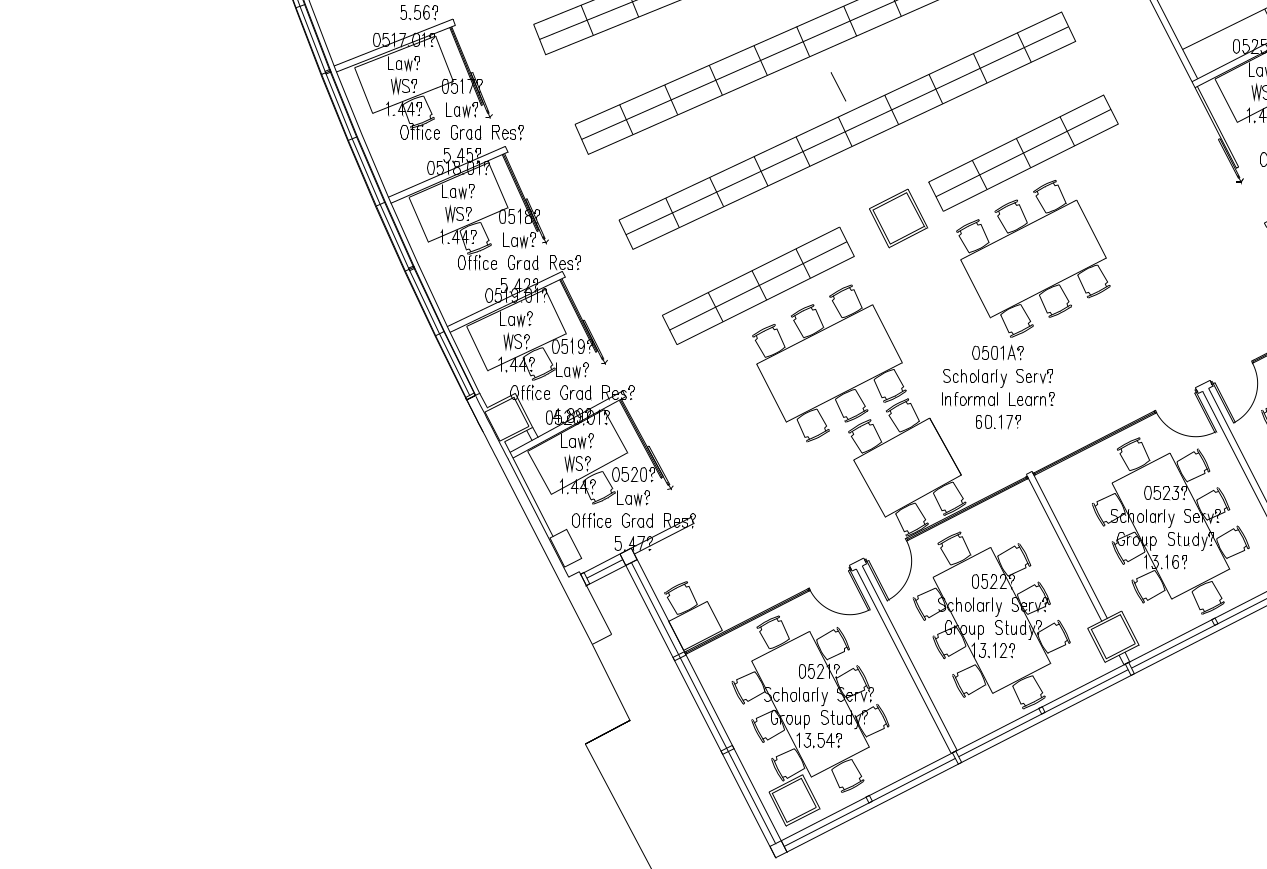door: (1155, 391, 1221, 451), (1213, 353, 1263, 428), (807, 568, 870, 624), (866, 532, 913, 606)
